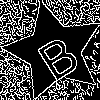B: (29, 26, 83, 83)
